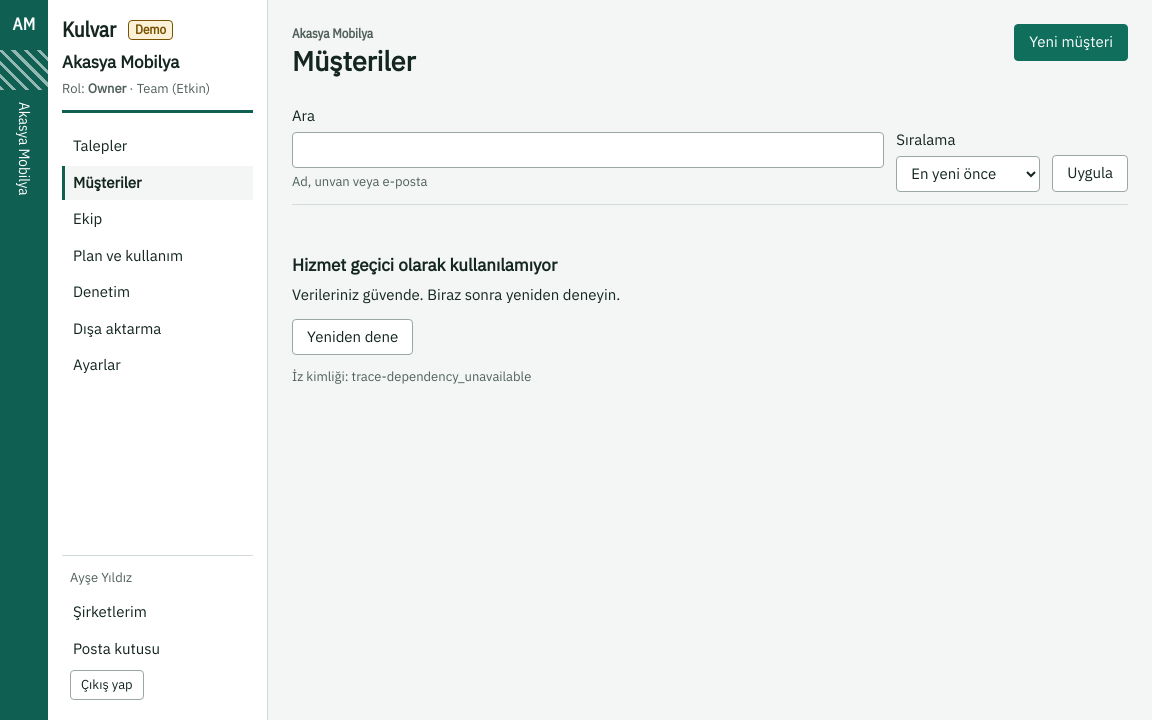
Test: durumlar › hata durumu: açıklama, iz kimliği ve çalışan "yeniden dene"
The image size is (1152, 720).
Check: the text "Hizmet geçici olarak kullanılamıyor" is shown, box [292,254,557,276]
Check: the text "İz kimliği: trace-dependency_unavailable" is shown, box [292,368,531,385]
Click the button "Yeniden dene": (353, 337) [292,319,413,355]
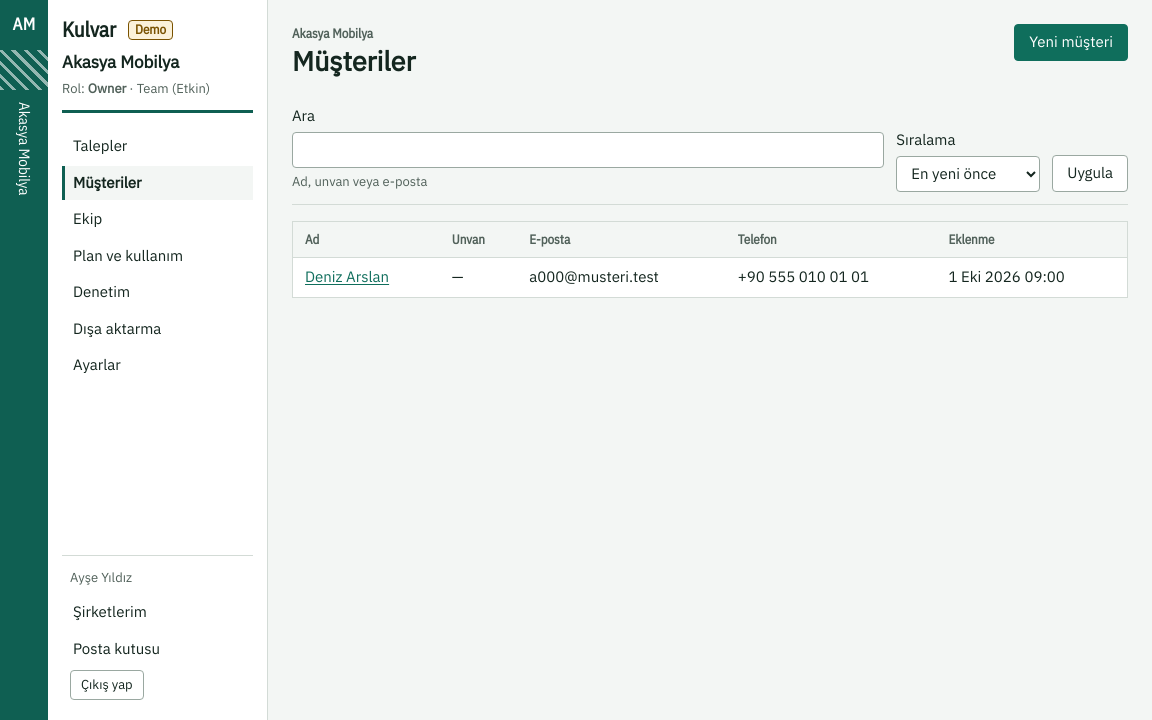
Check: the link "Deniz Arslan" is shown, box [305,267,389,286]
